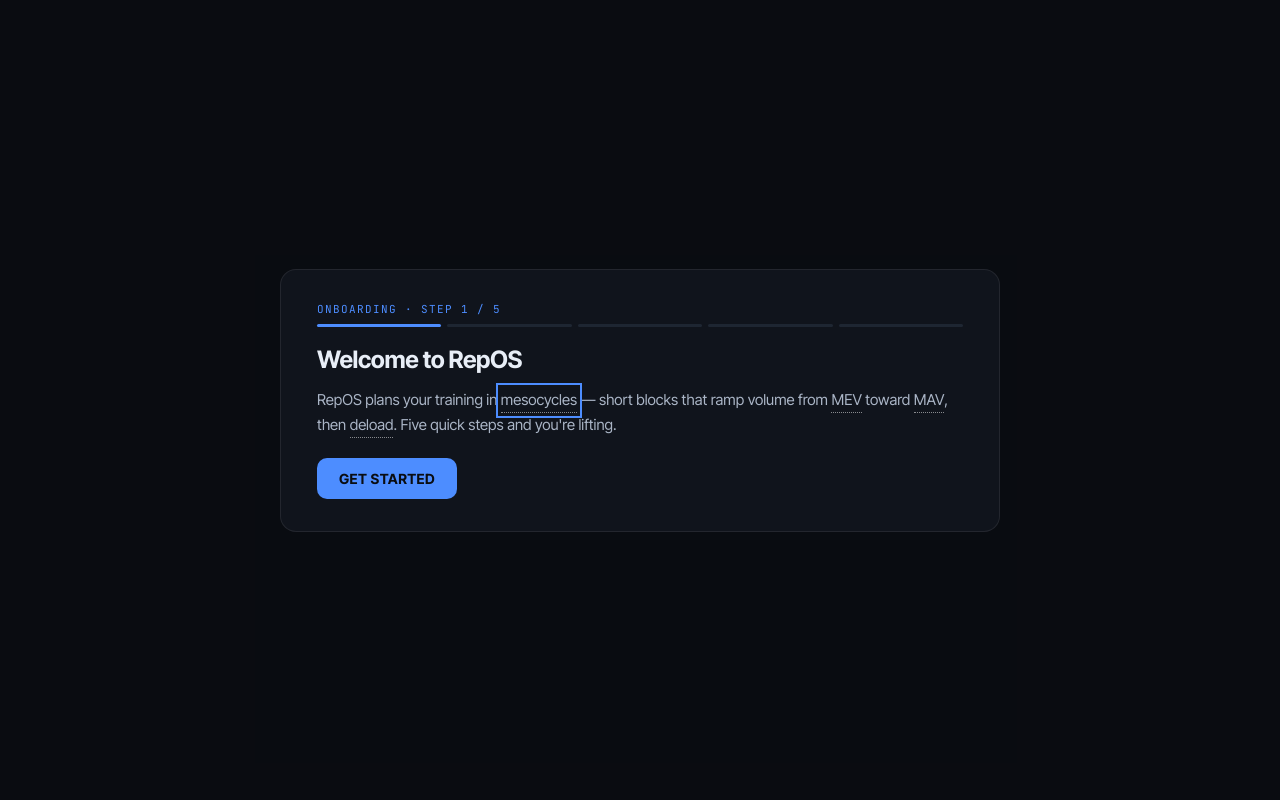
Test case: <OnboardingOverlay> › clicking Get Started advances to step 2
Click the button "GET STARTED" at (387, 478), box [317,458,457,498]
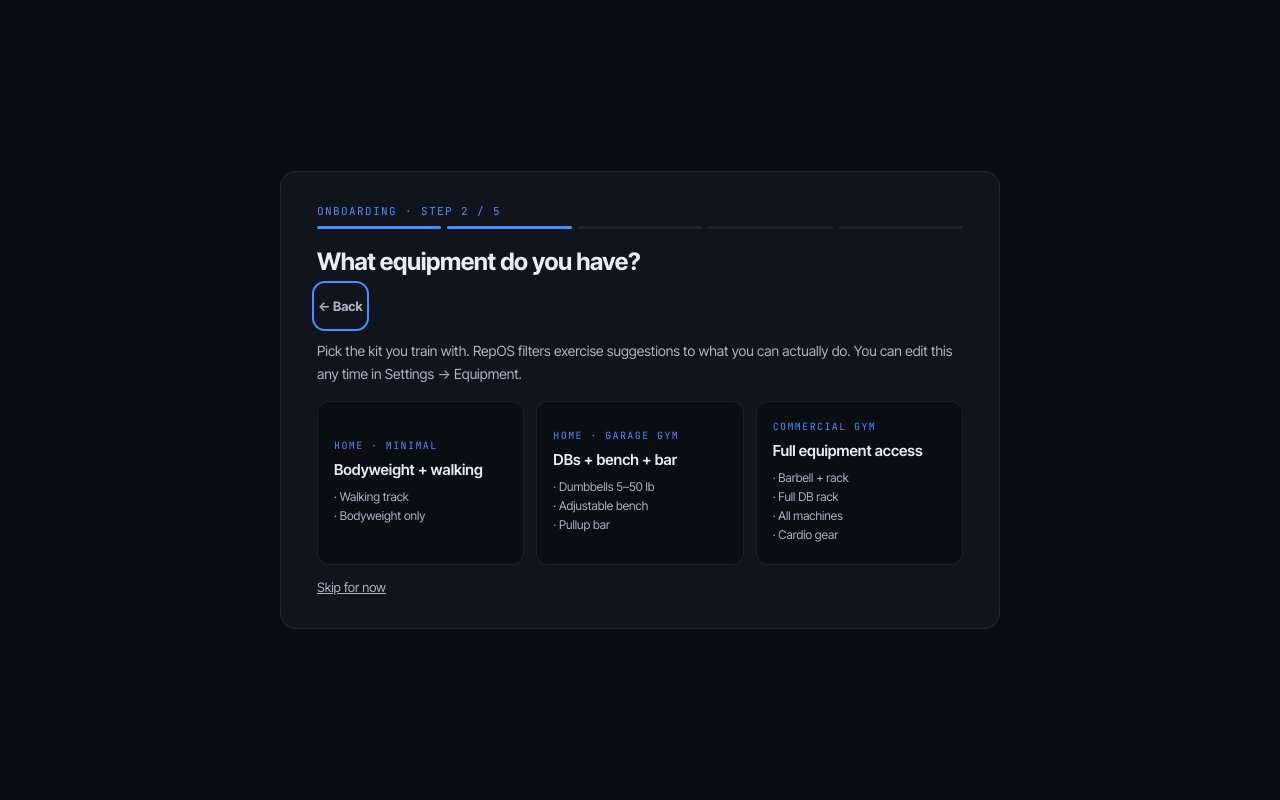
expect the text "ONBOARDING · STEP 2 / 5" is shown: met, box [317,204,501,218]
